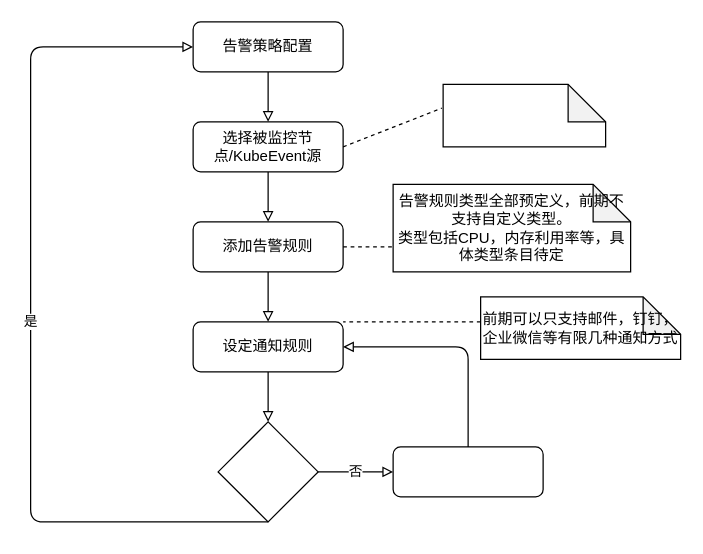
The diagram is 703 pixels wide and 554 high, and some of its shapes have lost their labels. Here are the shapes that lost their labels. From the top down, the centre of each, then its label:
point 524,115: KubeEvent源可以细化到命名空间级
point 267,471: 如果选择邮件方式，是否设定SMTP服务器
point 467,471: 转到系统设置->外部通信方式集成页面，设定SMTP服务器
